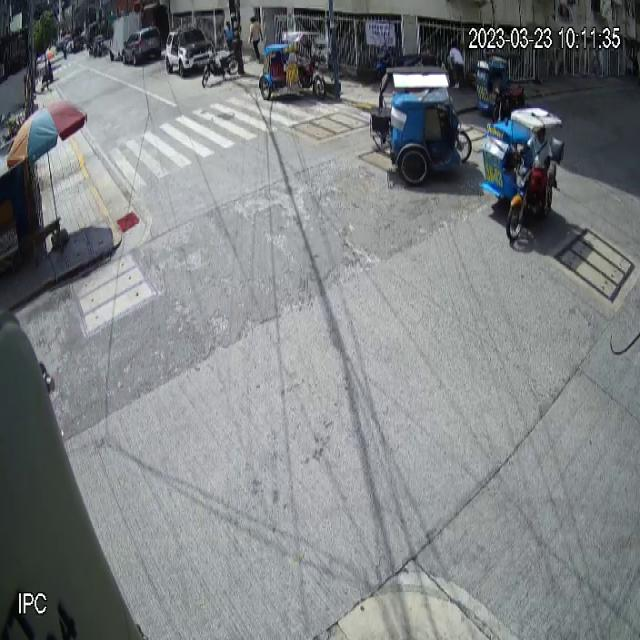Tricycle: (369, 64, 473, 187), (480, 105, 565, 242), (258, 30, 326, 101)
